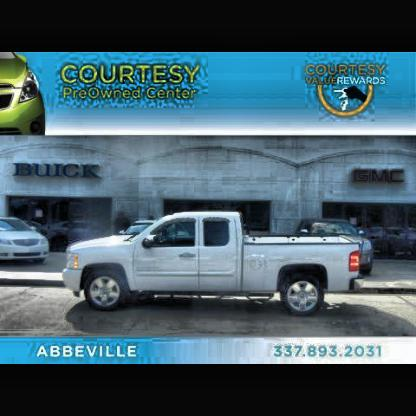Chevrolet Silverado 1500 Extended Cab 2012: (62, 211, 374, 319)
